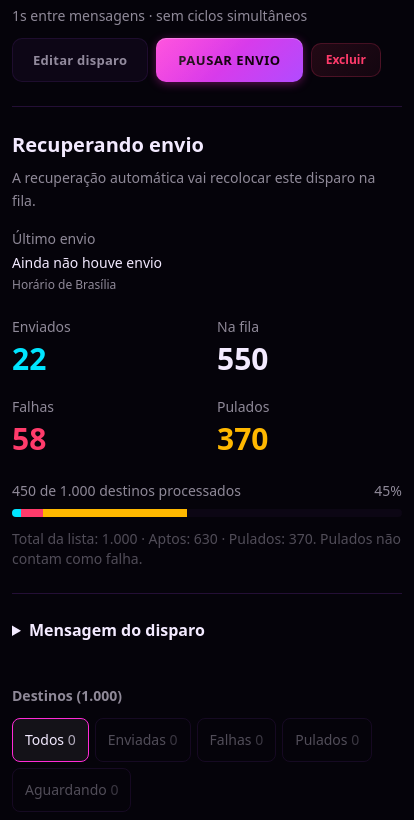
acompanhamento do disparo › edita mensagem e intervalo durante a execução sem pausar
expect the heading "Destinos (1.000)" is shown: met, box [12, 686, 122, 706]
Click the button "Editar disparo": point(80, 60) [12, 38, 148, 82]
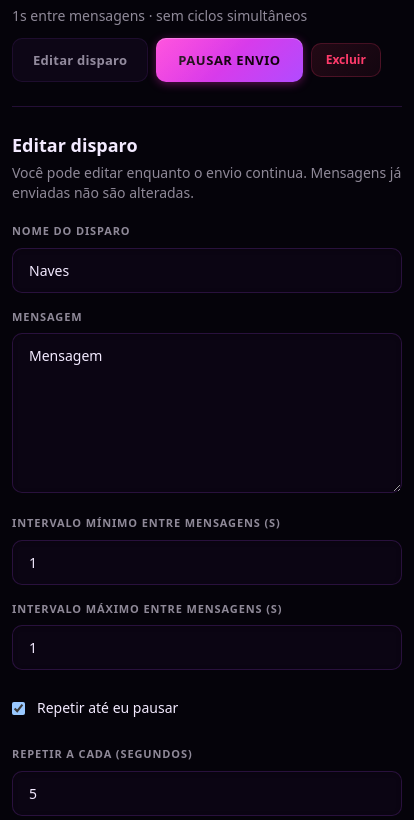
Replace the text in the text box labelled "Mensagem" with "Nova mensagem": point(207, 413) [12, 333, 402, 493]
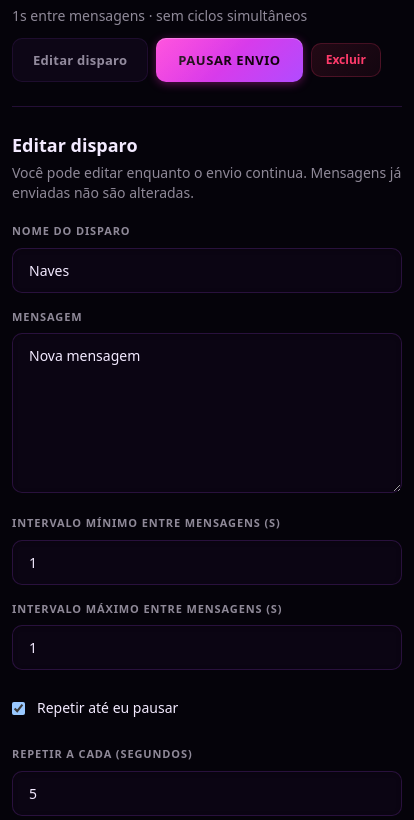
Replace the text in the number field labelled "Repetir a cada (segundos)" with "3": point(207, 793) [12, 770, 402, 816]
(page scrolled)
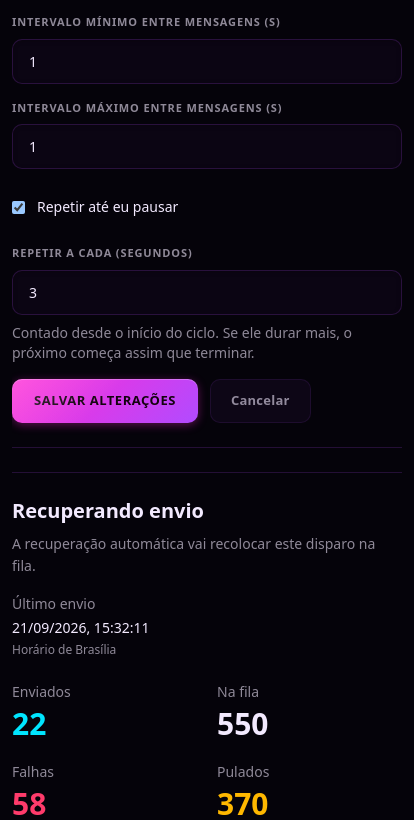
Click the button "Salvar alterações": point(105, 400) [12, 378, 198, 422]
(page scrolled)
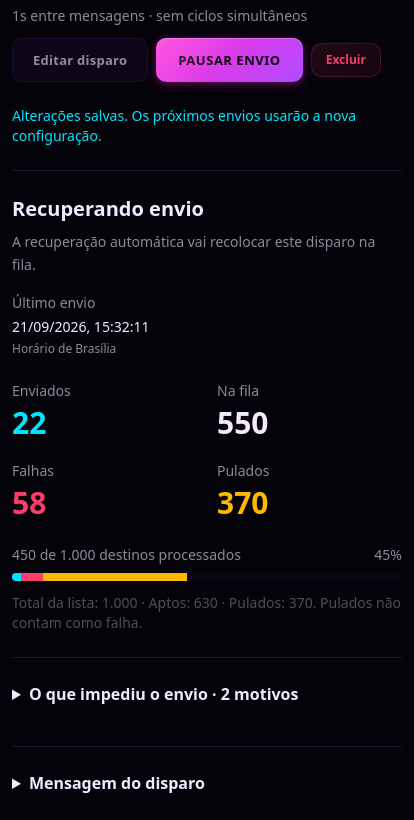
expect the text "Alterações salvas. Os próximos envios usarão a nova configuração." is shown: met, box [12, 106, 402, 146]
